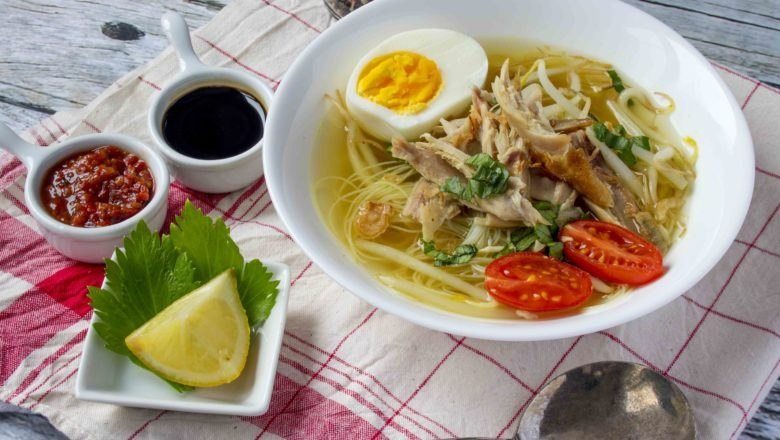soto: (247, 1, 760, 330)
